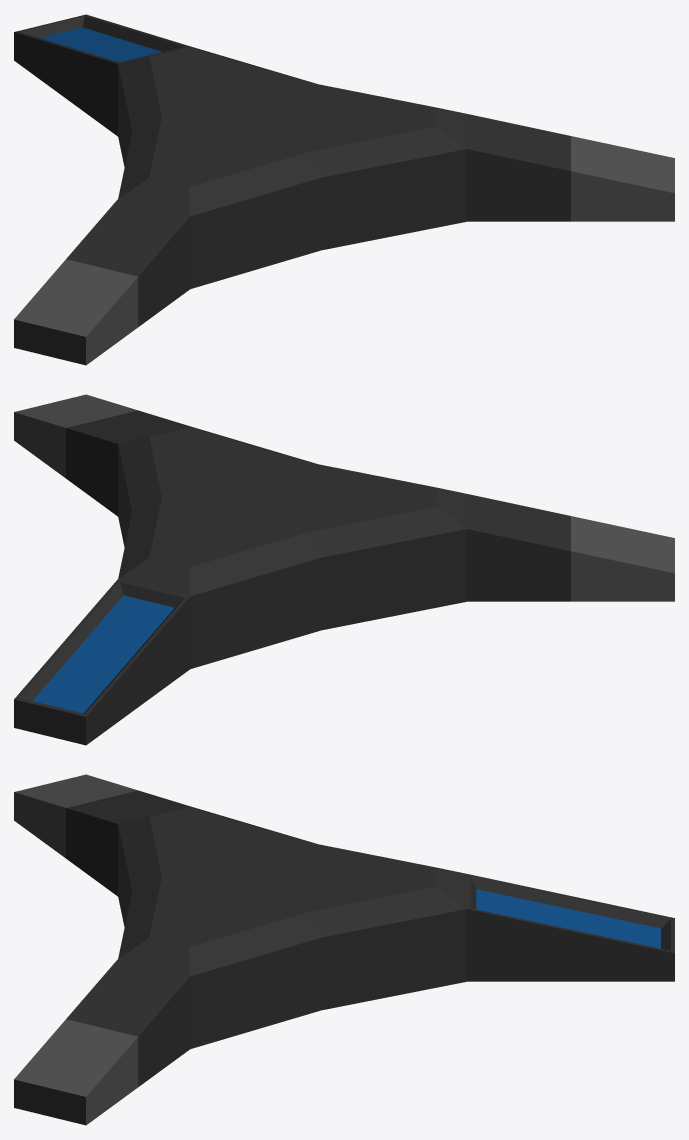
File: ConferencePhoneV1.fbx
3 renders of one model, top to bottom at view 1: azimuth 30°, elevation 25°; view 2: azimuth 150°, elevation 25°; view 3: azimuth 270°, elevation 25°, orthographic.
Visible parts, largest first — view 1: ConferencePhoneV1; view 2: ConferencePhoneV1; view 3: ConferencePhoneV1.
Part boxes in pixels (left/top/right/bottom): ConferencePhoneV1: left=14, top=14, right=674, bottom=365; ConferencePhoneV1: left=14, top=394, right=674, bottom=745; ConferencePhoneV1: left=14, top=774, right=674, bottom=1125.
Size of the model in its own units: 30.78 by 3.87 by 26.65.
